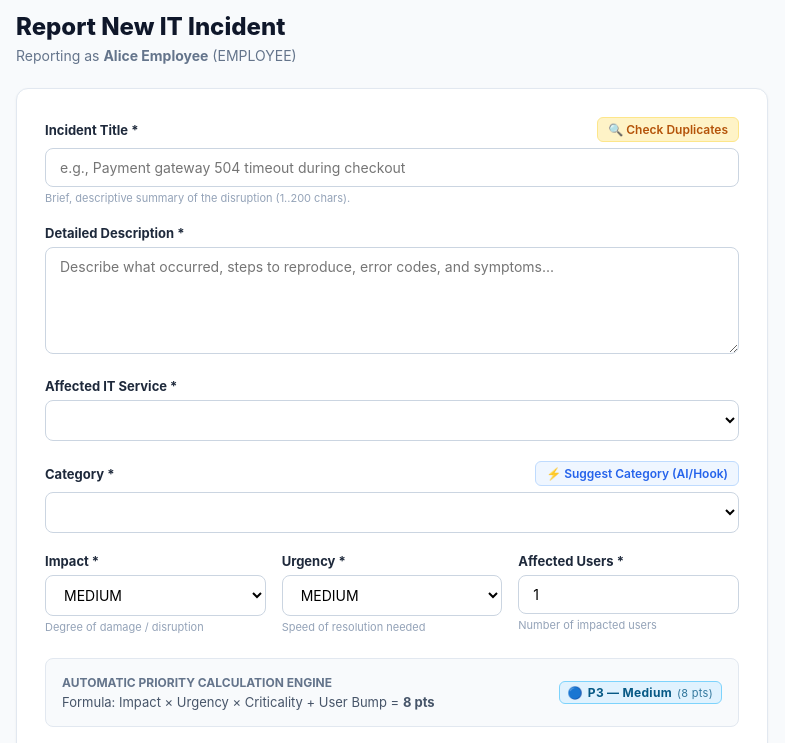
Test: Duplicate Detection (Gate B7) › displays duplicate advisory banner with safe fields when candidates exist
The image size is (785, 743).
Type "VPN connection failure" into the field with placeholder "e.g., Payment gateway 504 timeout during checkout" at (392, 168), box [45, 148, 739, 187]
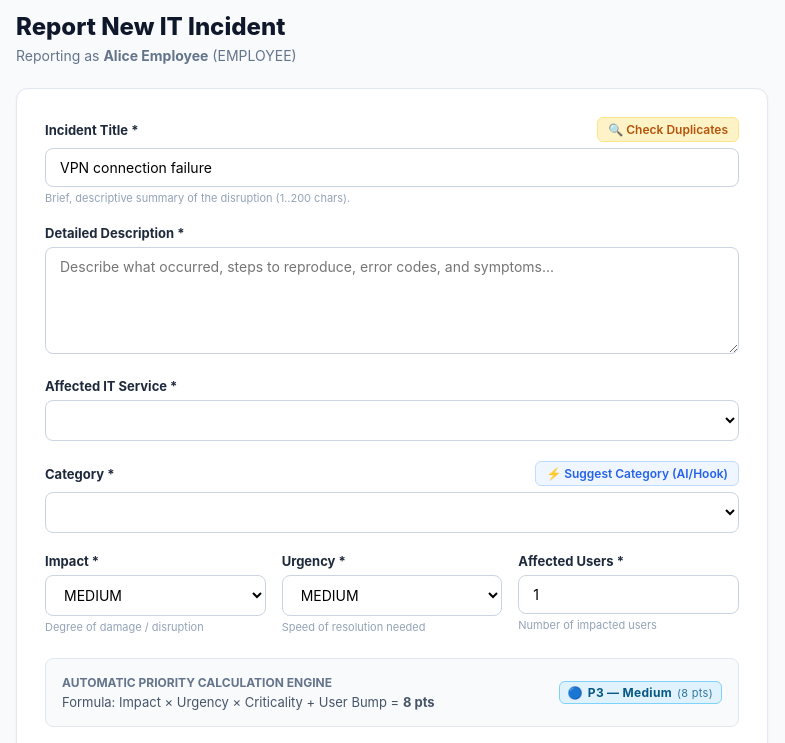
Click the button "🔍 Check Duplicates" at (668, 130), box [597, 117, 739, 142]
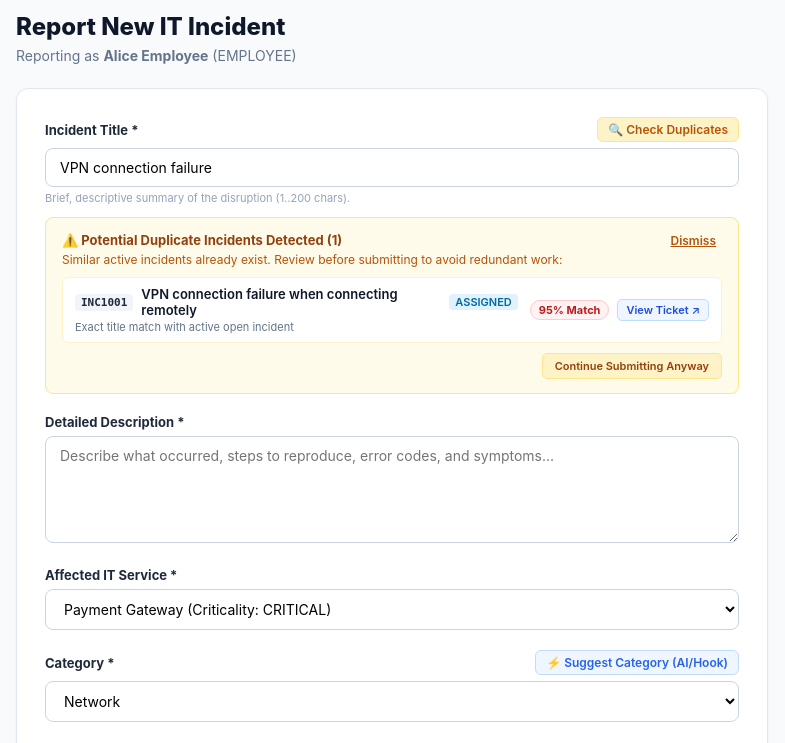
expect the element with test id "duplicate-advisory-banner" is shown: met, box [45, 217, 739, 394]
expect the heading "⚠️ Potential Duplicate Incidents Detected (1)" is shown: met, box [62, 232, 342, 248]
expect the text "INC1001" is shown: met, box [75, 294, 133, 310]
